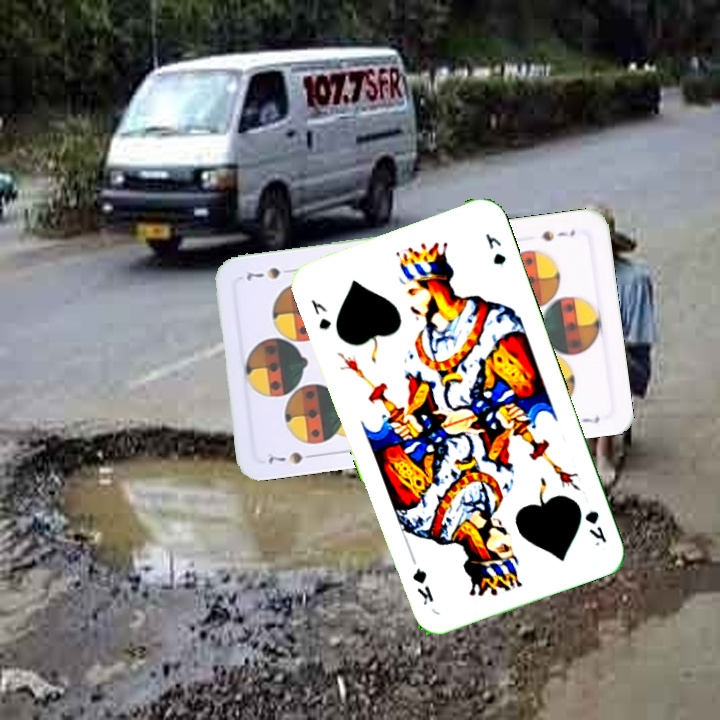GK: (580, 506, 610, 549), (306, 295, 334, 332)
S7: (537, 225, 578, 244), (264, 448, 305, 467)
